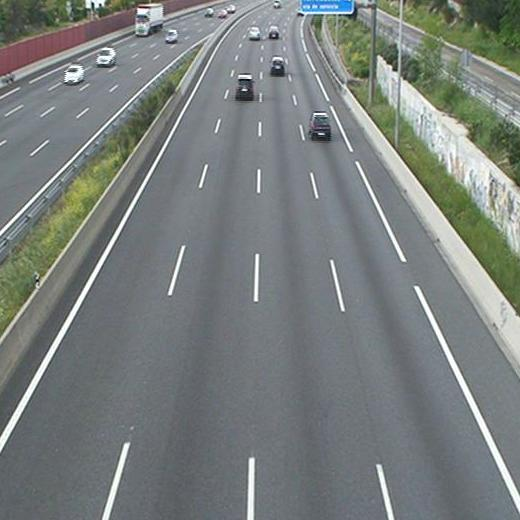car: (309, 111, 331, 141), (235, 74, 253, 100), (271, 56, 285, 76), (249, 26, 262, 40), (269, 26, 279, 39)
